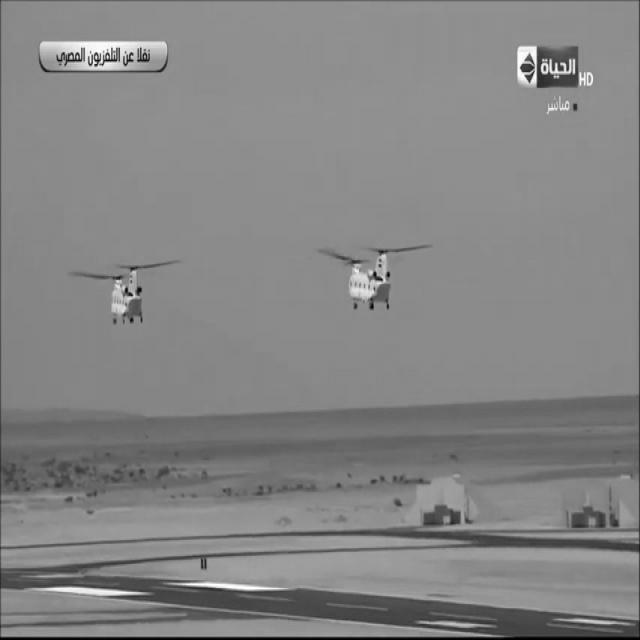helikopter: (314, 234, 416, 326), (82, 242, 174, 340)
